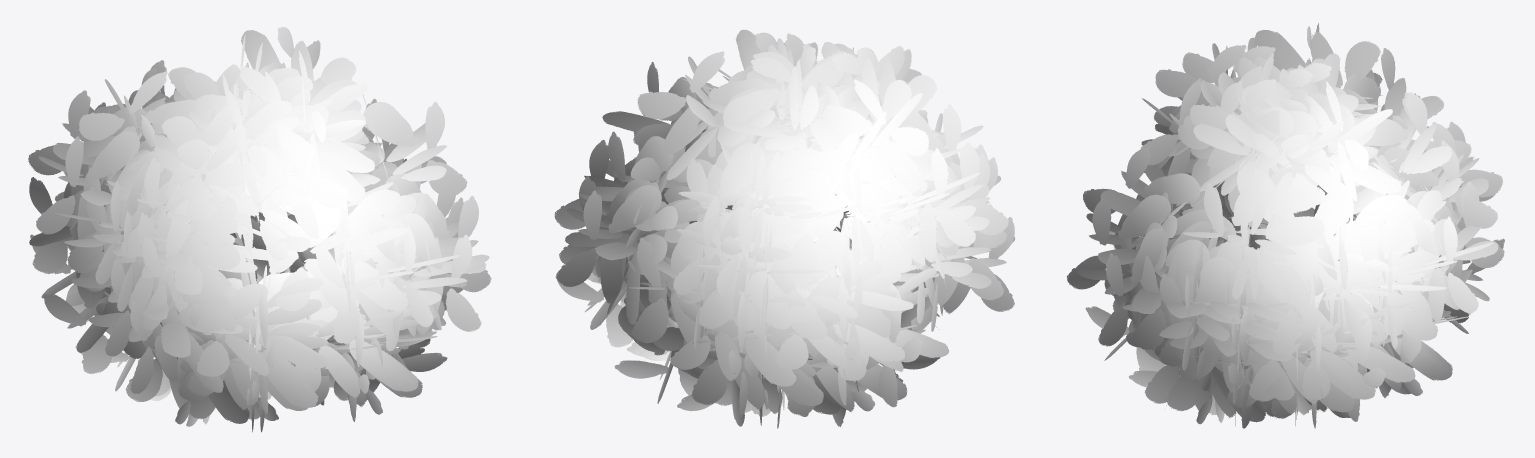
File: SM_Pixel_Bush_A.fbx
3 views of the same model, side by side, from view 1: azimuth 30°, elevation 25°; view 2: azimuth 150°, elevation 25°; view 3: azimuth 270°, elevation 25° (orthographic). The views are drawn at different scales.
Visible parts, largest first — view 1: SM_Pixel_Bush_A.001; view 2: SM_Pixel_Bush_A.001; view 3: SM_Pixel_Bush_A.001.
Boxes of the visible parts, bbox=[...] form: SM_Pixel_Bush_A.001: bbox=[28, 27, 491, 432]; SM_Pixel_Bush_A.001: bbox=[554, 29, 1015, 428]; SM_Pixel_Bush_A.001: bbox=[1067, 23, 1504, 428].
Size of the model in its own units: 749 by 623 by 726.
